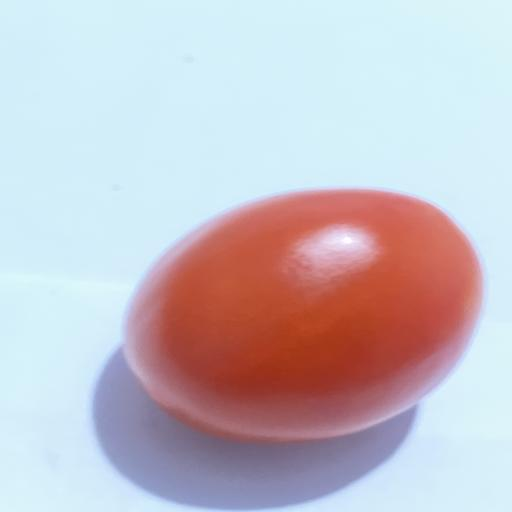ripe: (125, 189, 483, 442)
